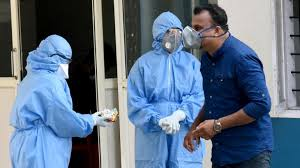mask: (183, 6, 230, 56), (152, 15, 181, 57), (46, 41, 73, 80)
